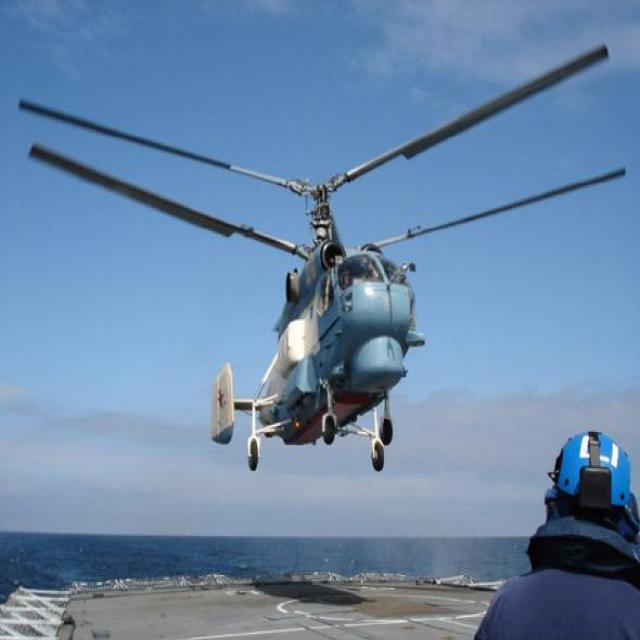MIL_HELO: (15, 46, 640, 470)
